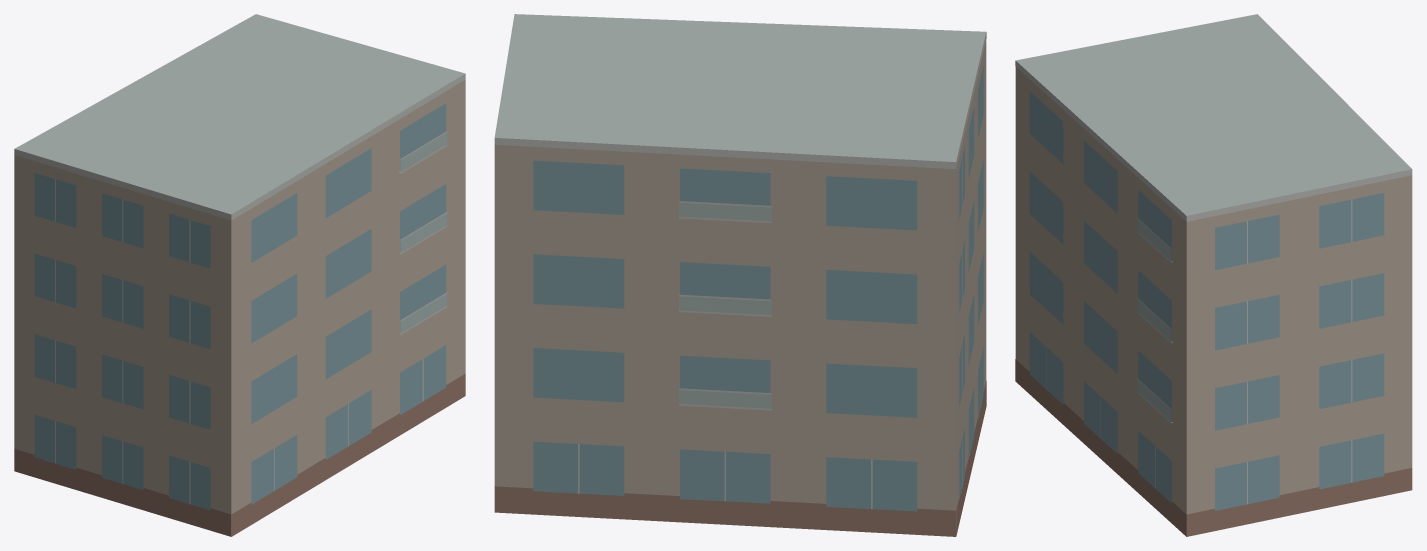
File: survey-upis-32878532.glb
The picture shows the model from 3 angles, left to right: view 1: azimuth 30°, elevation 25°; view 2: azimuth 150°, elevation 25°; view 3: azimuth 270°, elevation 25°; orthographic projection. The views are drawn at different scales.
Parts seen in each view (by area): view 1: survey-upis-32878532.tmp; view 2: survey-upis-32878532.tmp; view 3: survey-upis-32878532.tmp.
Part boxes in pixels (<box>): survey-upis-32878532.tmp: <box>14,14,465,536</box>; survey-upis-32878532.tmp: <box>494,14,986,536</box>; survey-upis-32878532.tmp: <box>1015,14,1412,536</box>.
Bounding box in the file's own units: 17.68 × 13.1 × 14.69.
